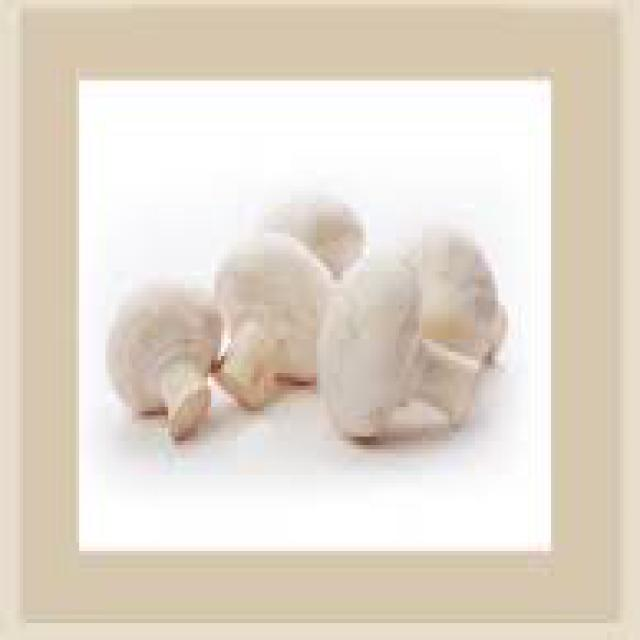Agaricus bisporus: (318, 253, 480, 440), (212, 235, 332, 405), (107, 280, 222, 427)
